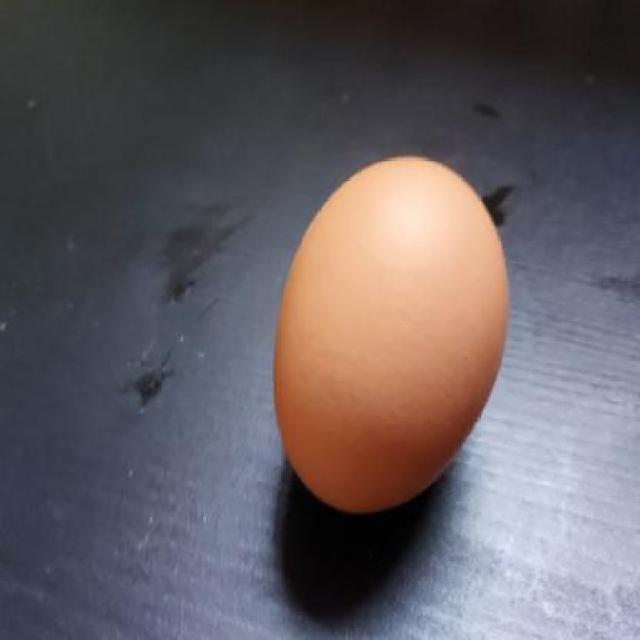biodegradable: (272, 155, 508, 514)
